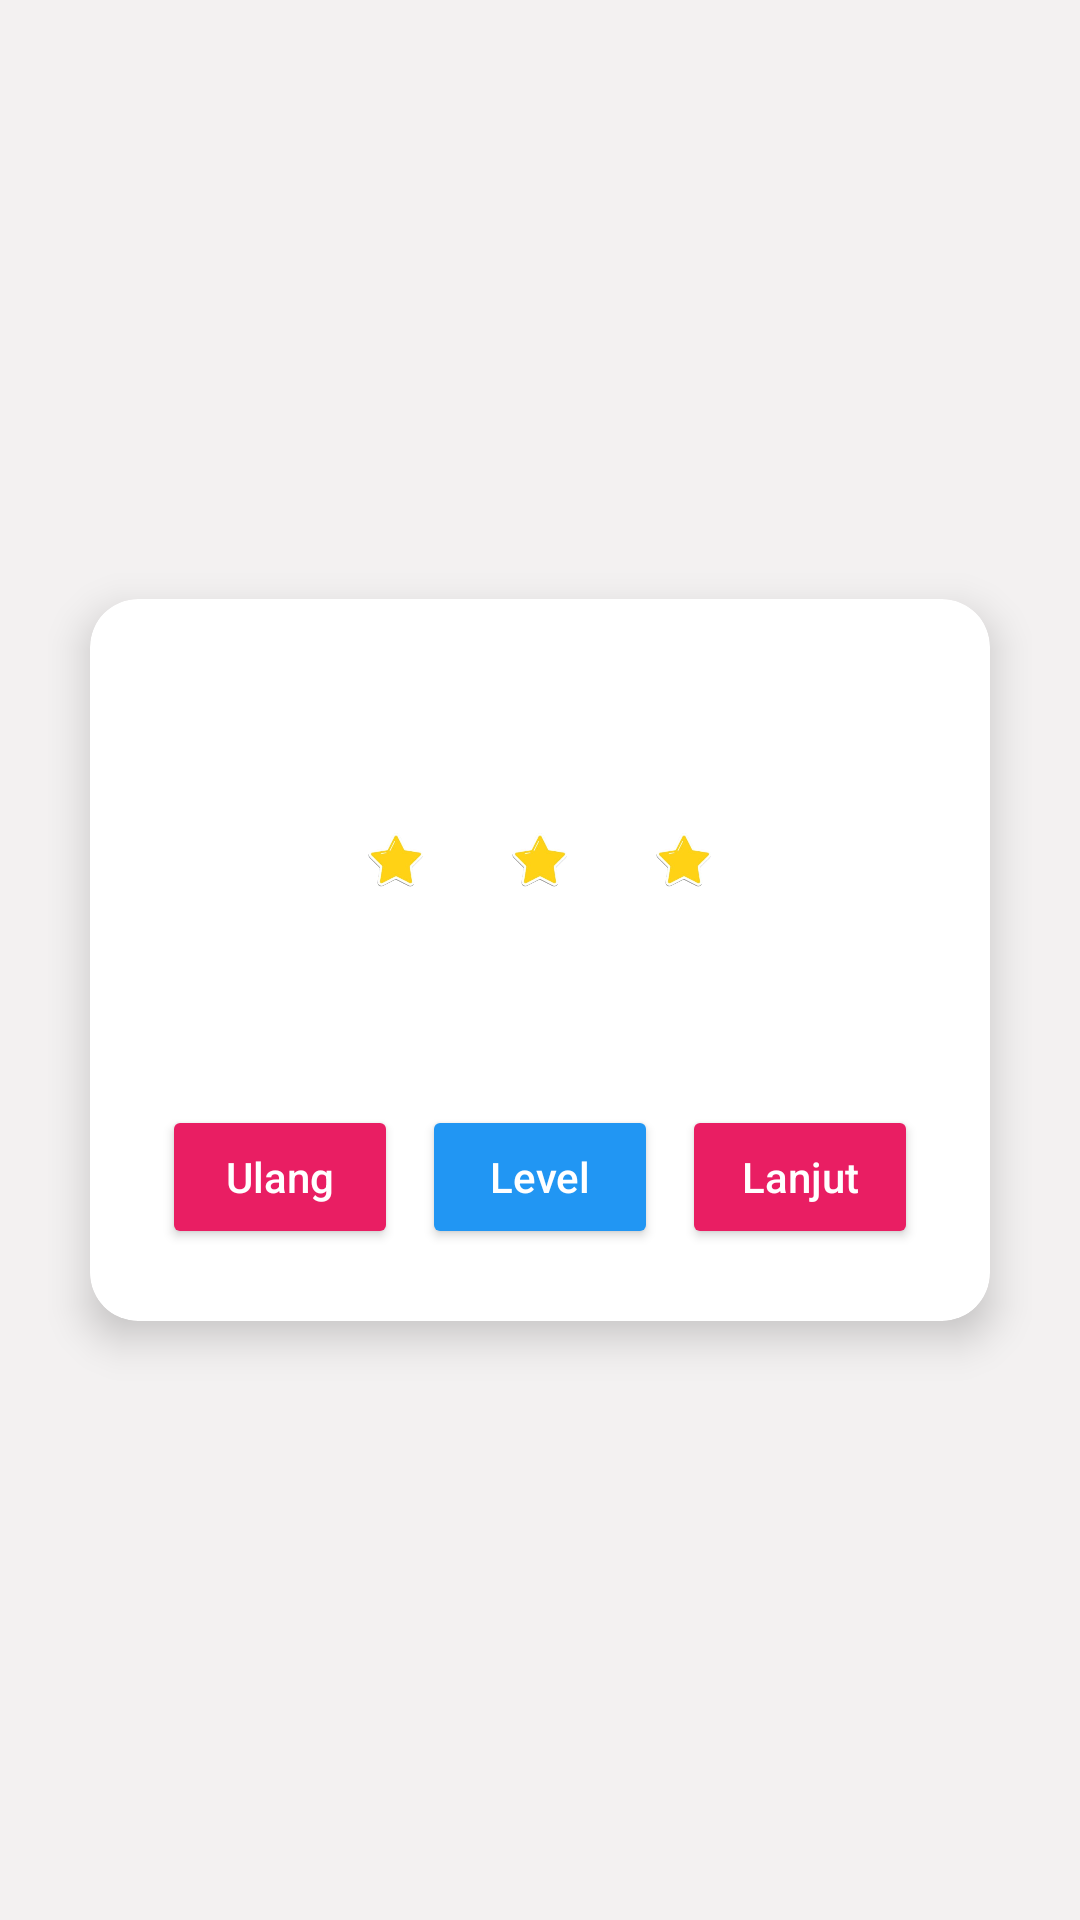

Named icons in this screenshot (1080x1920) and their centers, [x,y]:
Star 1: [395,861]
Star 2: [539,861]
Star 3: [683,861]
